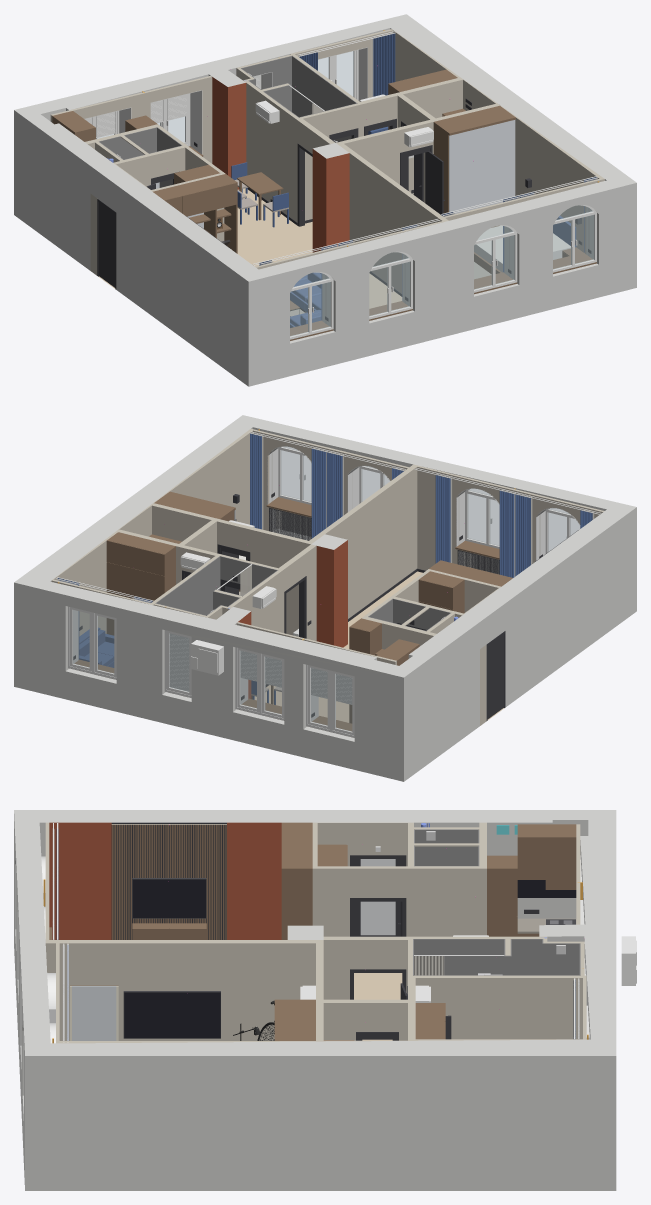
Rendered from apartment.glb.
3 renders of one model, top to bottom at view 1: azimuth 30°, elevation 25°; view 2: azimuth 150°, elevation 25°; view 3: azimuth 270°, elevation 25°, orthographic. The views are drawn at different scales.
Parts seen in each view (by area): view 1: IfcWall/Кирпичные стены, IfcFurniture/Шкаф-купе с зеркальными дверями (спальня), IfcWall/Перегородка ГКЛ.008, IfcWall/Перегородка ГКЛ.016, IfcSlab/Пол (верх стяжки), IfcCovering/Штукатурка восточной стены спальни (за кроватью,, IfcCovering/Плитка стен санузла 2, IfcFurniture/Бар сухой 2120×600 (гостиная, на месте шкафа у , IfcWall/Перегородка ГКЛ.009, IfcWall/Перегородка ГКЛ.012, IfcWindow/Окно спальни 2 (арочное), IfcWindow/Окно гостиной 2 (арочное) (+31 smaller); view 2: IfcWall/Кирпичные стены, IfcWall/Перегородка ГКЛ.008, IfcShadingDevice/Шторы гостиной: блэкаут и тюль на потолочны, IfcWall/Перегородка ГКЛ.010, IfcWall/Перегородка ГКЛ.018, IfcShadingDevice/Шторы спальни: блэкаут и тюль на потолочных, IfcFurniture/Шкаф распашной (комната 2), IfcCovering/Штукатурка восточной стены спальни (за кроватью,, IfcWall/Перегородка ГКЛ.016, IfcCovering/Плитка стен санузла 2, IfcWindow/Окно кухни 2, IfcWindow/Окно комнаты 2 (+37 smaller); view 3: IfcWall/Кирпичные стены, IfcWall/Перегородка ГКЛ.008, IfcCovering/Панель реек тёмного дерева на чёрном войлоке с п, IfcWall/Перегородка ГКЛ.013, IfcWall/Перегородка ГКЛ.003, IfcCovering/Плитка стен санузла 2, IfcElectricAppliance/Телевизор ≈85″ (спальня), IfcWall/Перегородка ГКЛ.016, IfcFurniture/Бар сухой 2120×600 (гостиная, на месте шкафа у , IfcWall/Перегородка ГКЛ.015, IfcElectricAppliance/Телевизор ≈65″ (гостиная, напротив дива, IfcCovering/Штукатурка западной стены прихожей у входной две (+19 smaller).
Part boxes in pixels (box(x1,y1,x2,y2)): IfcWall/Кирпичные стены: box(14, 14, 636, 386); IfcFurniture/Шкаф-купе с зеркальными дверями (спальня): box(433, 105, 515, 227); IfcWall/Перегородка ГКЛ.008: box(339, 144, 448, 293); IfcWall/Перегородка ГКЛ.016: box(243, 79, 335, 222); IfcSlab/Пол (верх стяжки): box(98, 188, 402, 308); IfcCovering/Штукатурка восточной стены спальни (за кроватью,: box(500, 105, 602, 252); IfcCovering/Плитка стен санузла 2: box(241, 56, 357, 142); IfcFurniture/Бар сухой 2120×600 (гостиная, на месте шкафа у : box(153, 174, 237, 253); IfcWall/Перегородка ГКЛ.009: box(50, 76, 212, 163); IfcWall/Перегородка ГКЛ.012: box(360, 77, 463, 194); IfcWindow/Окно спальни 2 (арочное): box(553, 205, 596, 272); IfcWindow/Окно гостиной 2 (арочное): box(369, 251, 412, 319); IfcWall/Кирпичные стены: box(14, 415, 636, 781); IfcWall/Перегородка ГКЛ.008: box(309, 464, 417, 618); IfcShadingDevice/Шторы гостиной: блэкаут и тюль на потолочны: box(414, 468, 600, 577); IfcWall/Перегородка ГКЛ.010: box(150, 503, 313, 635); IfcWall/Перегородка ГКЛ.018: box(417, 465, 604, 576); IfcShadingDevice/Шторы спальни: блэкаут и тюль на потолочных: box(250, 431, 405, 538); IfcFurniture/Шкаф распашной (комната 2): box(106, 532, 175, 635); IfcCovering/Штукатурка восточной стены спальни (за кроватью,: box(153, 430, 252, 524); IfcWall/Перегородка ГКЛ.016: box(226, 544, 316, 640); IfcCovering/Плитка стен санузла 2: box(155, 556, 277, 615); IfcWindow/Окно кухни 2: box(235, 647, 284, 720); IfcWindow/Окно комнаты 2: box(68, 606, 116, 679); IfcWall/Кирпичные стены: box(14, 810, 616, 1190); IfcWall/Перегородка ГКЛ.008: box(45, 940, 315, 1040); IfcCovering/Панель реек тёмного дерева на чёрном войлоке с п: box(111, 822, 226, 939); IfcWall/Перегородка ГКЛ.013: box(317, 866, 479, 936); IfcWall/Перегородка ГКЛ.003: box(408, 975, 586, 1039); IfcCovering/Плитка стен санузла 2: box(413, 939, 580, 975); IfcElectricAppliance/Телевизор ≈85″ (спальня): box(123, 991, 220, 1038); IfcWall/Перегородка ГКЛ.016: box(323, 936, 547, 999); IfcFurniture/Бар сухой 2120×600 (гостиная, на месте шкафа у : box(281, 822, 312, 939); IfcWall/Перегородка ГКЛ.015: box(323, 999, 407, 1040); IfcElectricAppliance/Телевизор ≈65″ (гостиная, напротив дива: box(132, 878, 206, 918); IfcCovering/Штукатурка западной стены прихожей у входной две: box(317, 822, 407, 866).
Size of the model in its own units: 11.35 by 2.93 by 12.15.
